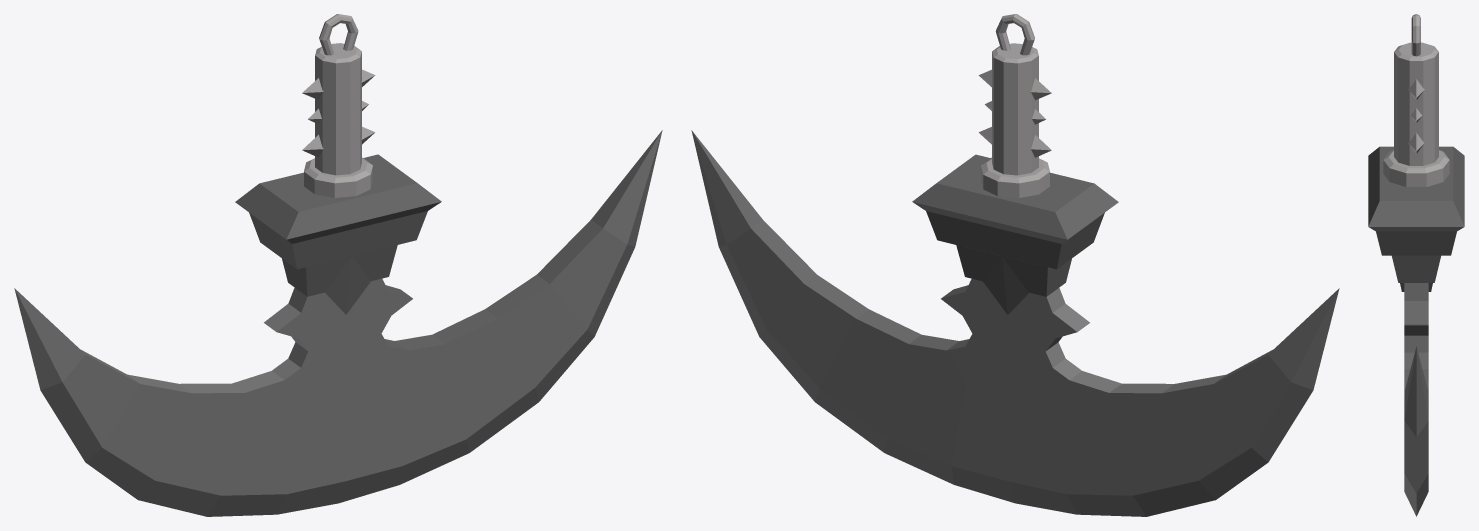
File: StonePendulumTrap_2.fbx
3 views of the same model, side by side, from view 1: azimuth 30°, elevation 25°; view 2: azimuth 150°, elevation 25°; view 3: azimuth 270°, elevation 25° (orthographic). The views are drawn at different scales.
Parts seen in each view (by area): view 1: StonePendulumTrap_2; view 2: StonePendulumTrap_2; view 3: StonePendulumTrap_2.
Part boxes in pixels (left/top/right/bottom): StonePendulumTrap_2: left=14, top=14, right=662, bottom=516; StonePendulumTrap_2: left=691, top=14, right=1339, bottom=516; StonePendulumTrap_2: left=1368, top=14, right=1464, bottom=516.
Bounding box in the file's own units: 152 × 109 × 20.83.
